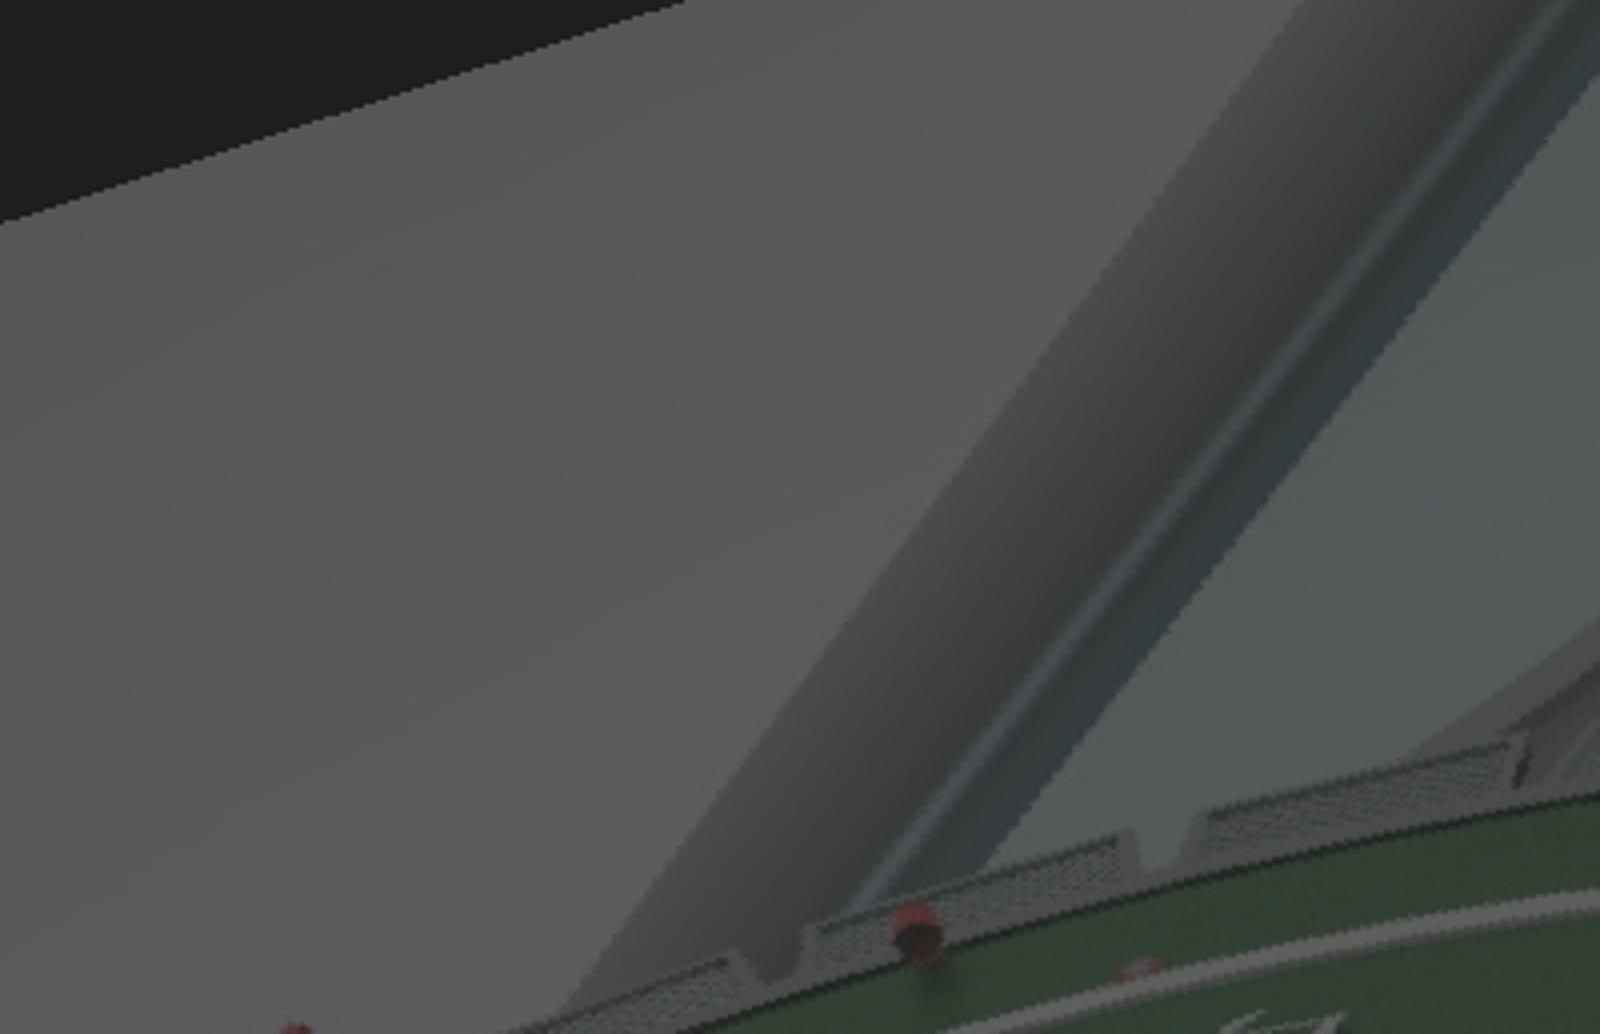Apron: (934, 875, 1598, 1033)
